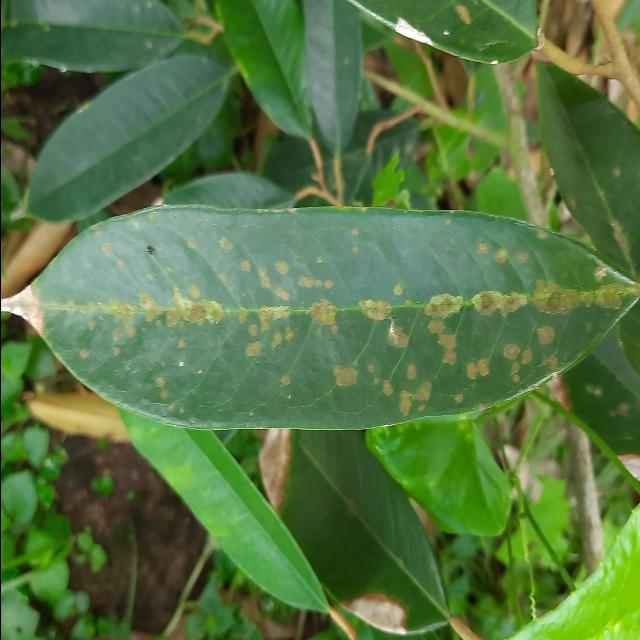Algal Leaf Spot: (0, 191, 640, 434)
